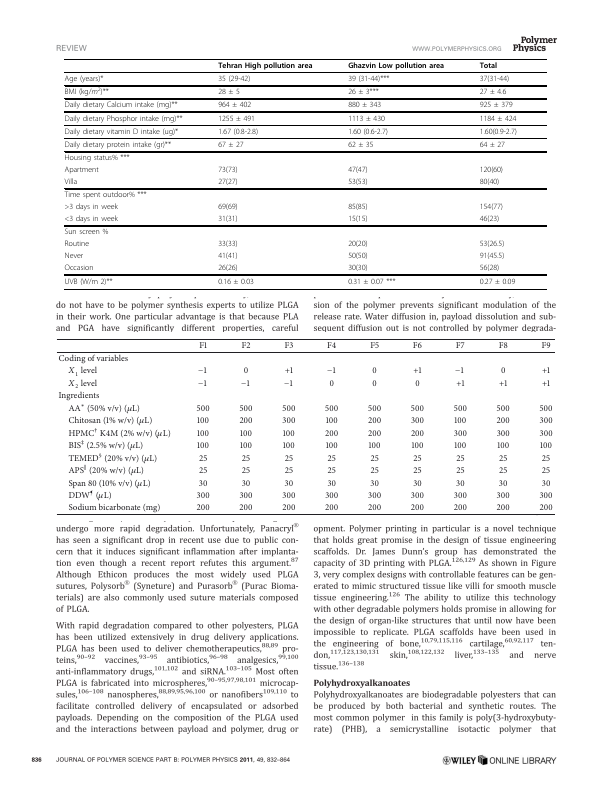borderless: (63, 57, 547, 289), (55, 337, 555, 514)
cell: (67, 424, 172, 441), (67, 450, 158, 466), (67, 413, 153, 428), (67, 475, 152, 490), (67, 462, 145, 478), (67, 437, 144, 453), (67, 400, 141, 416), (64, 114, 184, 123), (64, 140, 172, 150), (64, 101, 179, 110), (64, 127, 179, 136), (67, 503, 161, 514), (347, 61, 445, 70), (217, 61, 313, 70), (64, 191, 147, 200), (67, 487, 113, 503), (57, 354, 129, 364), (64, 153, 130, 163), (64, 214, 119, 224), (67, 375, 98, 392), (63, 86, 110, 97), (67, 363, 98, 379), (64, 203, 119, 212), (57, 391, 100, 402), (64, 277, 113, 286), (347, 277, 396, 286), (347, 74, 390, 84), (63, 74, 104, 84), (64, 228, 109, 237), (217, 127, 259, 136), (347, 127, 389, 136), (64, 165, 100, 175), (217, 114, 256, 123), (347, 114, 386, 123), (479, 127, 518, 136), (479, 114, 517, 123), (217, 277, 255, 286), (217, 74, 251, 84), (479, 277, 516, 286), (347, 87, 380, 97), (217, 101, 252, 110), (347, 101, 382, 110), (479, 101, 514, 110), (479, 74, 510, 84), (479, 87, 507, 97), (217, 140, 244, 150), (347, 140, 374, 150), (479, 140, 506, 150), (64, 264, 94, 273), (479, 165, 504, 175), (217, 87, 241, 97), (64, 240, 90, 249), (479, 240, 505, 249), (479, 252, 505, 261), (479, 203, 504, 212), (217, 165, 239, 175), (217, 177, 239, 187), (217, 214, 239, 224), (347, 165, 368, 175), (347, 177, 368, 187), (479, 177, 500, 187), (347, 214, 368, 224), (479, 214, 500, 224), (217, 203, 239, 212), (217, 240, 239, 249), (217, 252, 239, 261), (217, 264, 239, 273), (197, 375, 209, 391), (240, 375, 252, 391), (283, 375, 295, 391), (347, 203, 368, 212), (347, 240, 368, 249), (347, 252, 368, 261), (347, 264, 368, 273), (479, 264, 500, 273), (64, 252, 84, 261), (197, 363, 209, 378), (326, 363, 338, 378), (238, 416, 254, 427), (238, 503, 254, 514), (479, 61, 498, 70), (455, 363, 466, 378), (281, 416, 296, 427), (367, 416, 382, 427), (410, 416, 425, 427), (496, 416, 511, 427), (539, 416, 554, 427), (324, 428, 339, 439), (367, 428, 382, 439), (410, 428, 425, 439), (453, 428, 468, 439), (496, 428, 511, 439), (539, 428, 554, 439), (196, 503, 211, 514), (281, 503, 296, 514), (324, 503, 339, 514), (367, 503, 382, 514), (410, 503, 425, 514), (453, 503, 468, 514), (496, 503, 511, 514), (539, 503, 554, 514), (238, 404, 254, 414), (238, 491, 254, 501), (196, 416, 210, 427), (325, 416, 339, 427), (453, 416, 467, 427), (196, 428, 210, 439), (239, 428, 253, 439), (282, 428, 296, 439), (196, 441, 210, 452), (239, 441, 253, 452), (282, 441, 296, 452), (325, 441, 339, 452), (368, 441, 382, 452), (410, 441, 424, 452), (453, 441, 467, 452), (496, 441, 510, 452), (539, 441, 553, 452), (196, 404, 211, 414), (281, 404, 296, 414), (324, 404, 339, 414), (367, 404, 382, 414), (410, 404, 425, 414), (453, 404, 468, 414), (496, 404, 511, 414), (539, 404, 554, 414), (196, 491, 211, 501), (281, 491, 296, 501), (324, 491, 339, 501), (367, 491, 382, 501), (410, 491, 425, 501), (453, 491, 468, 501), (496, 491, 511, 501), (539, 491, 554, 501), (64, 177, 78, 187), (283, 341, 294, 352), (326, 341, 337, 352), (369, 341, 380, 352), (412, 341, 423, 352), (455, 341, 466, 352), (498, 341, 509, 352), (541, 341, 552, 352), (412, 366, 423, 377), (369, 453, 380, 464), (412, 453, 423, 464), (455, 453, 466, 464), (326, 478, 337, 489), (369, 478, 380, 489), (412, 478, 423, 489), (455, 478, 466, 489), (198, 341, 208, 352), (241, 341, 251, 352), (284, 366, 294, 377), (541, 366, 551, 377), (198, 453, 208, 464), (241, 453, 251, 464), (284, 453, 294, 464), (327, 453, 337, 464), (498, 453, 508, 464), (541, 453, 551, 464), (369, 466, 380, 476), (412, 466, 423, 476), (455, 466, 466, 476), (198, 478, 208, 489), (241, 478, 251, 489), (284, 478, 294, 489), (498, 478, 508, 489), (541, 478, 551, 489), (455, 379, 465, 389), (498, 379, 508, 389), (541, 379, 551, 389), (198, 466, 208, 476), (241, 466, 251, 476), (284, 466, 294, 476), (327, 466, 337, 476), (498, 466, 508, 476), (541, 466, 551, 476), (371, 366, 378, 377), (371, 379, 378, 389), (414, 379, 421, 389), (243, 366, 249, 377), (500, 366, 506, 377), (329, 379, 335, 389)
